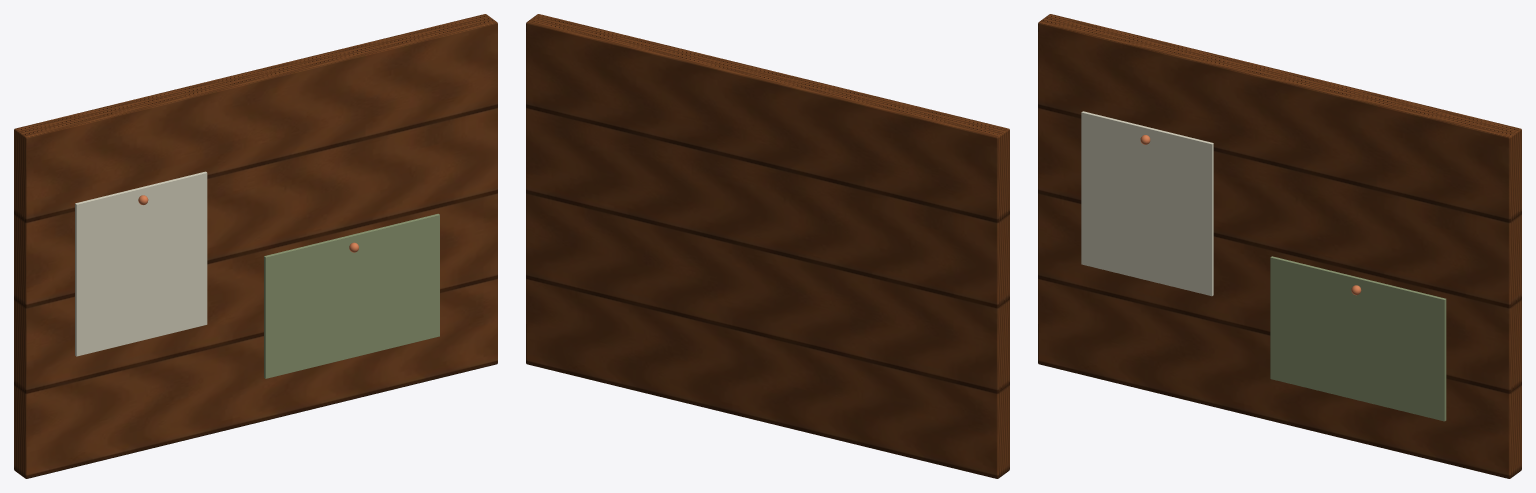
The model's file is research-and-crafting-progression-pinboard-108bb42e__2867.glb.
3 views of the same model, side by side, from view 1: azimuth 30°, elevation 25°; view 2: azimuth 150°, elevation 25°; view 3: azimuth 330°, elevation 25° (orthographic).
Visible parts, largest first — view 1: pinboard; view 2: pinboard; view 3: pinboard.
Part boxes in pixels (box(x1,y1,x2,y2)): pinboard: box(14, 14, 497, 478); pinboard: box(526, 14, 1009, 478); pinboard: box(1038, 14, 1521, 478).
Size of the model in its own units: 0.65 by 0.45 by 0.047.
Materials: 4 (1 with a texture image).
